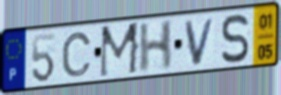5: (31, 31, 57, 84)
C: (60, 30, 94, 79)
H: (138, 18, 175, 75)
M: (98, 20, 142, 81)
S: (219, 12, 251, 66)
V: (183, 16, 217, 68)
